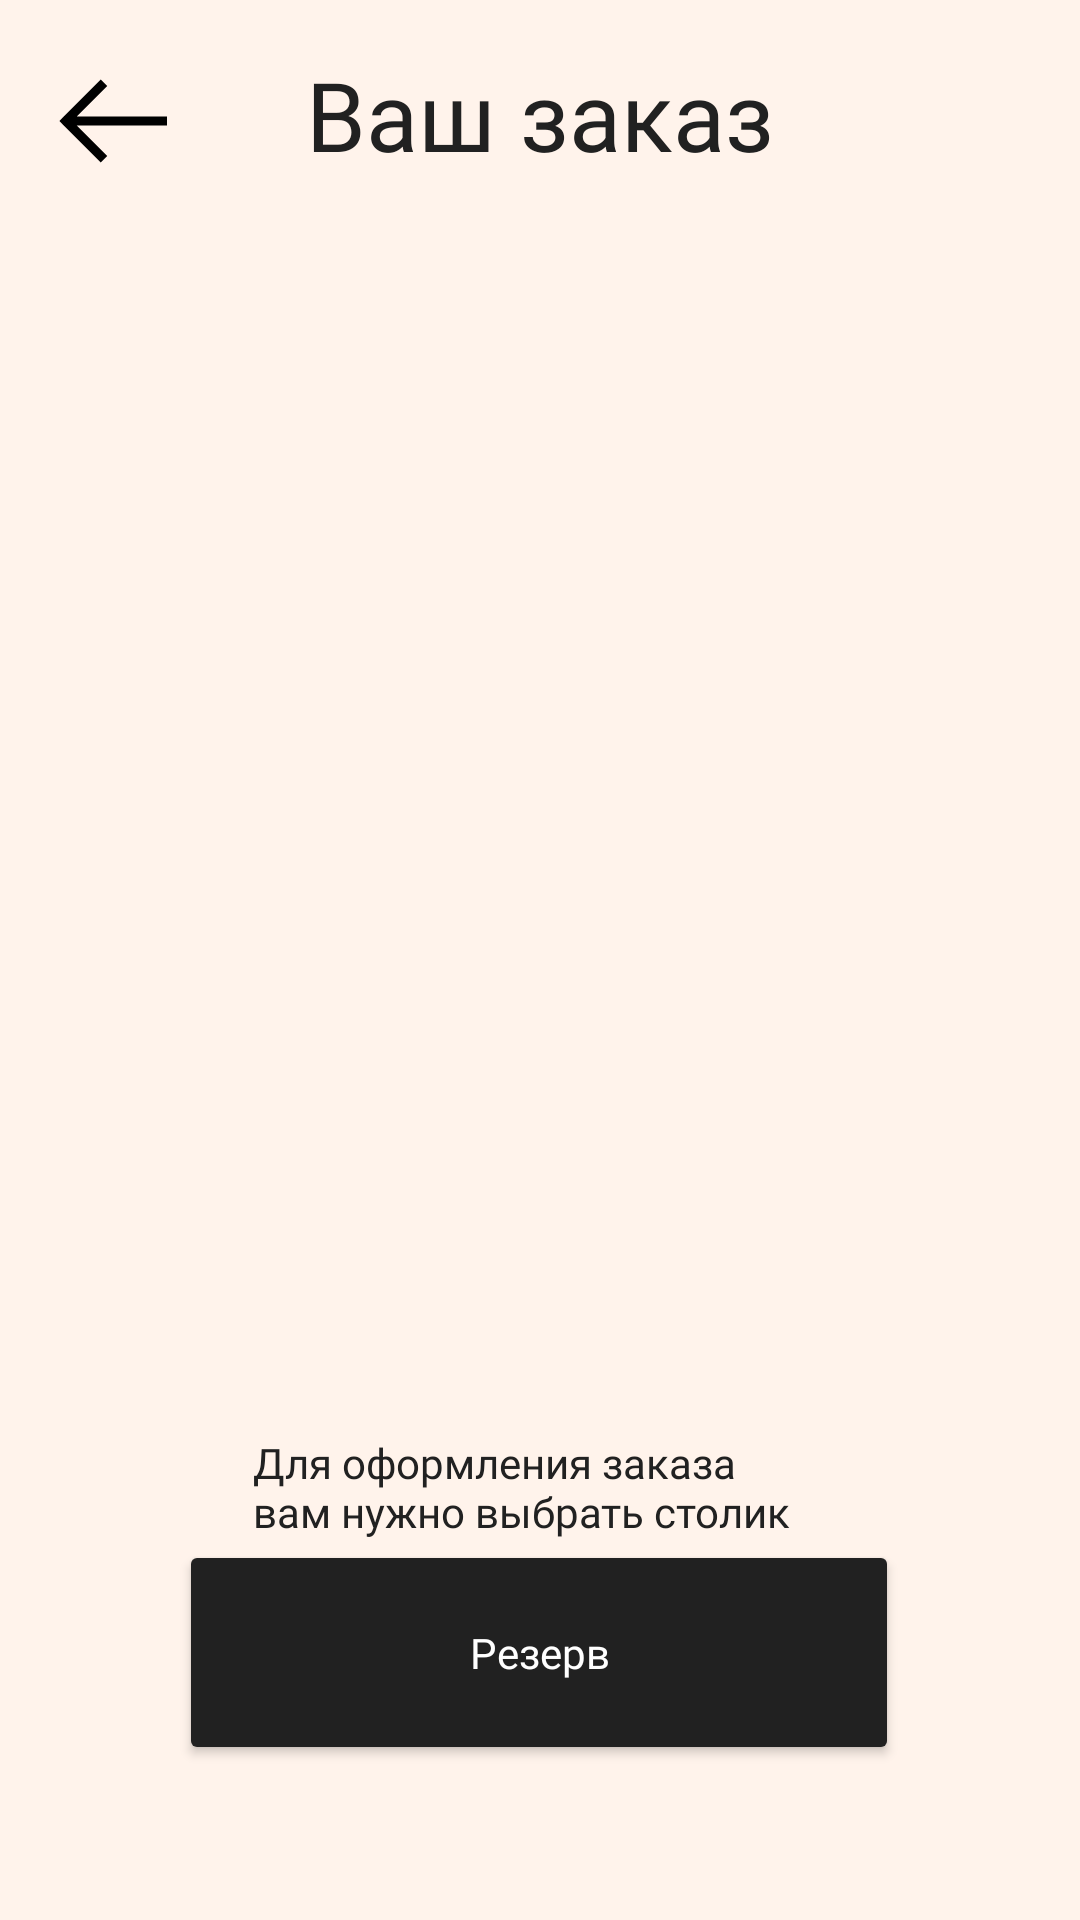

Icons on this 1080 x 1920 Android screen, each with the point to tap as [x,y]:
back: [113,121]
